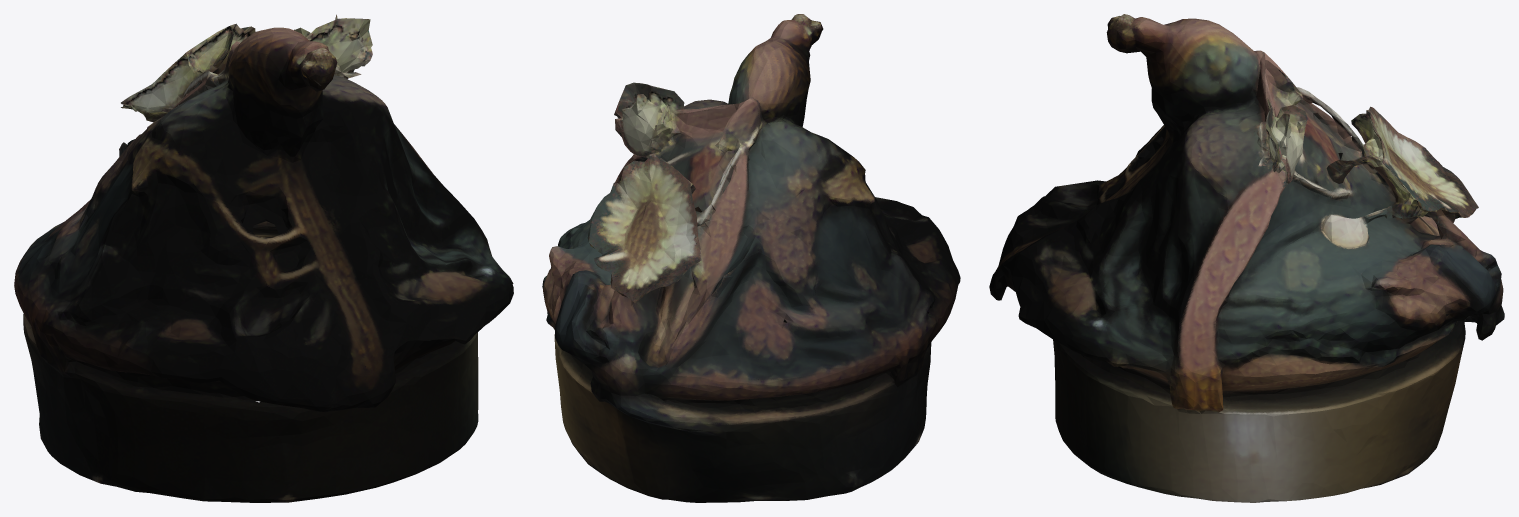
The model's file is paracas.glb.
3 renders of one model, left to right at view 1: azimuth 30°, elevation 25°; view 2: azimuth 150°, elevation 25°; view 3: azimuth 270°, elevation 25°, orthographic. The views are drawn at different scales.
Visible parts, largest first — view 1: world; view 2: world; view 3: world.
Boxes of the visible parts, <box> form: world: <box>14,14,513,502</box>; world: <box>542,14,960,502</box>; world: <box>989,14,1504,502</box>.
Size of the model in its own units: 0.5277 by 0.5435 by 0.6046.
Materials: 1 (1 with a texture image).
